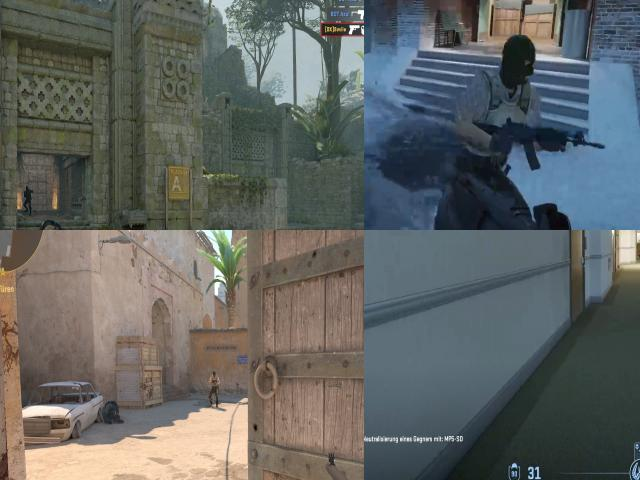CT: (21, 178, 36, 218)
CT-Head: (24, 182, 32, 193)
Dead: (105, 402, 125, 428), (38, 217, 67, 230)
T: (447, 67, 552, 172), (210, 371, 220, 407)
T-Head: (492, 33, 542, 88), (212, 370, 217, 378)
